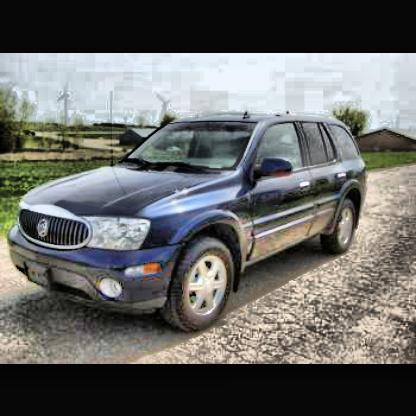Buick Rainier SUV 2007: (9, 112, 370, 333)
